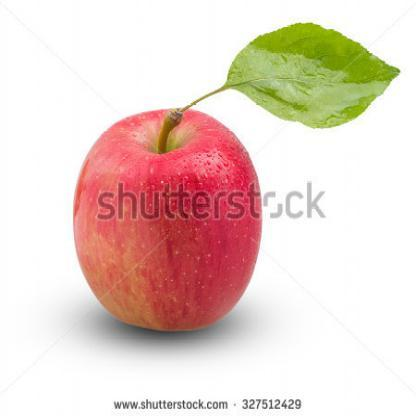Apple leaf: (222, 13, 404, 132)
